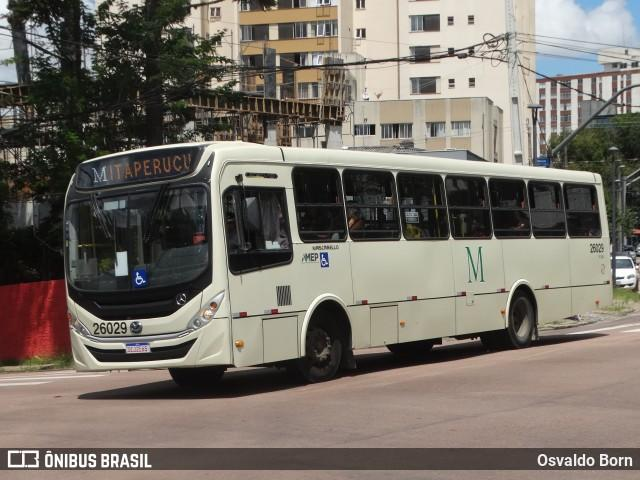ITAPERUCU: (106, 149, 197, 185)
